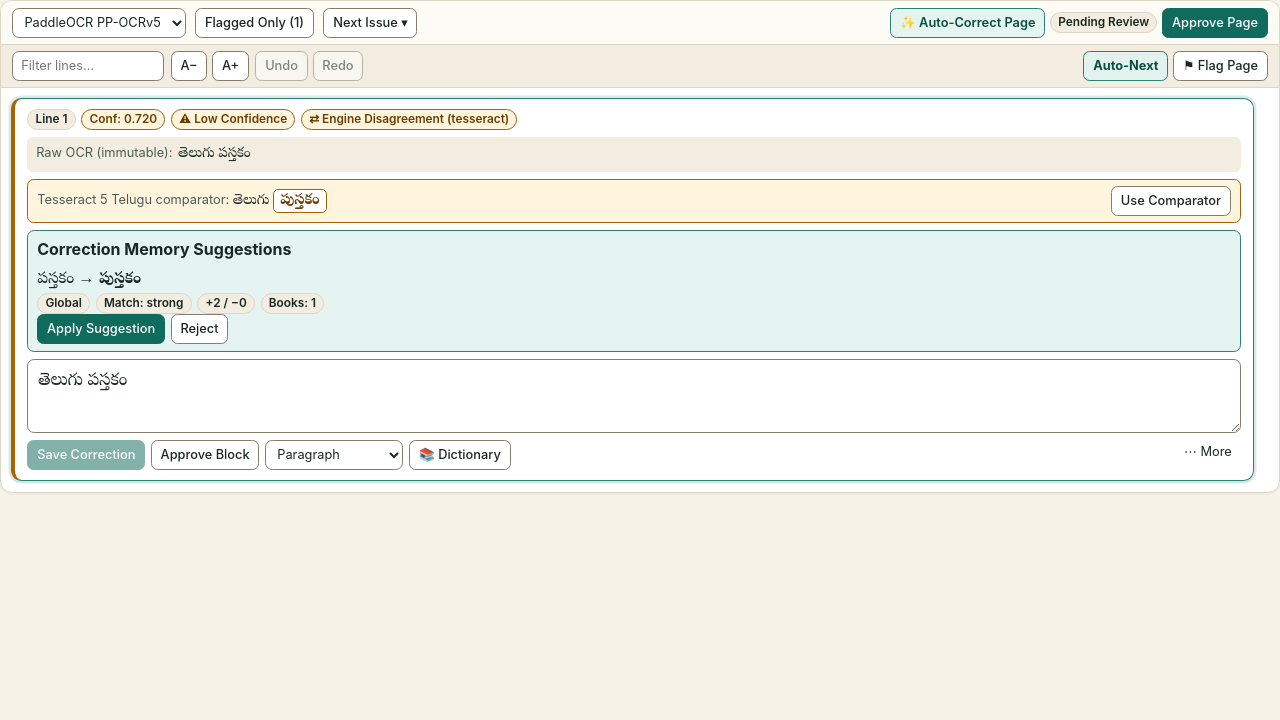
Test: ReviewEditorPanel › supports opt-in Auto-Correct Page preview, revert, and Save All & Approve Page
The image size is (1280, 720).
Later steps or results of the test are not shown.
Click the button "Auto-Next".
click(1126, 66)  # box 1083,51 -> 1168,81
Click the button "📚 Dictionary".
click(460, 455)  # box 409,440 -> 511,470
Click the button "✨ Auto-Correct Page".
click(968, 23)  # box 890,8 -> 1045,38
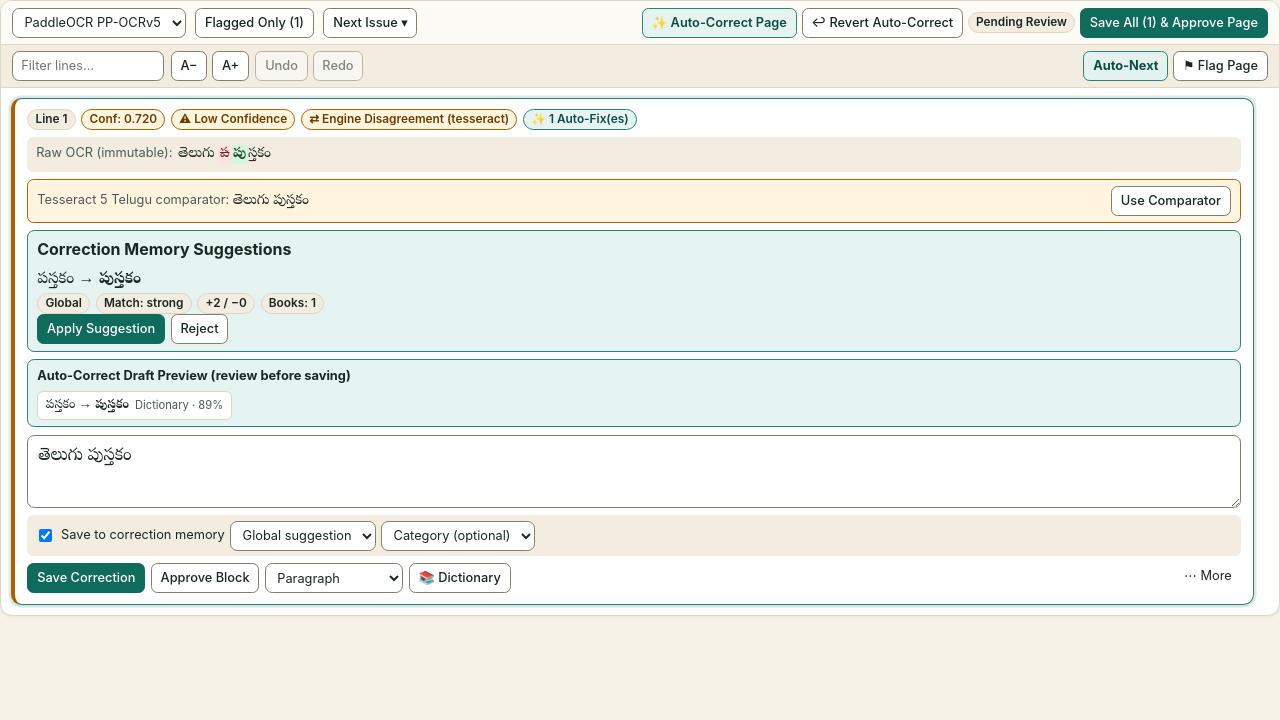
Check: the text box named "Edit Telugu text for line 1" holds "తెలుగు పుస్తకం", box 27,435 -> 1241,508
Check: the text "Auto-Correct Draft Preview (review before saving)" is shown, box 37,368 -> 351,383
Note: Test one-click Revert Auto-Correct restores original draft.
Click the button "↩ Revert Auto-Correct".
click(882, 23)  # box 802,8 -> 963,38
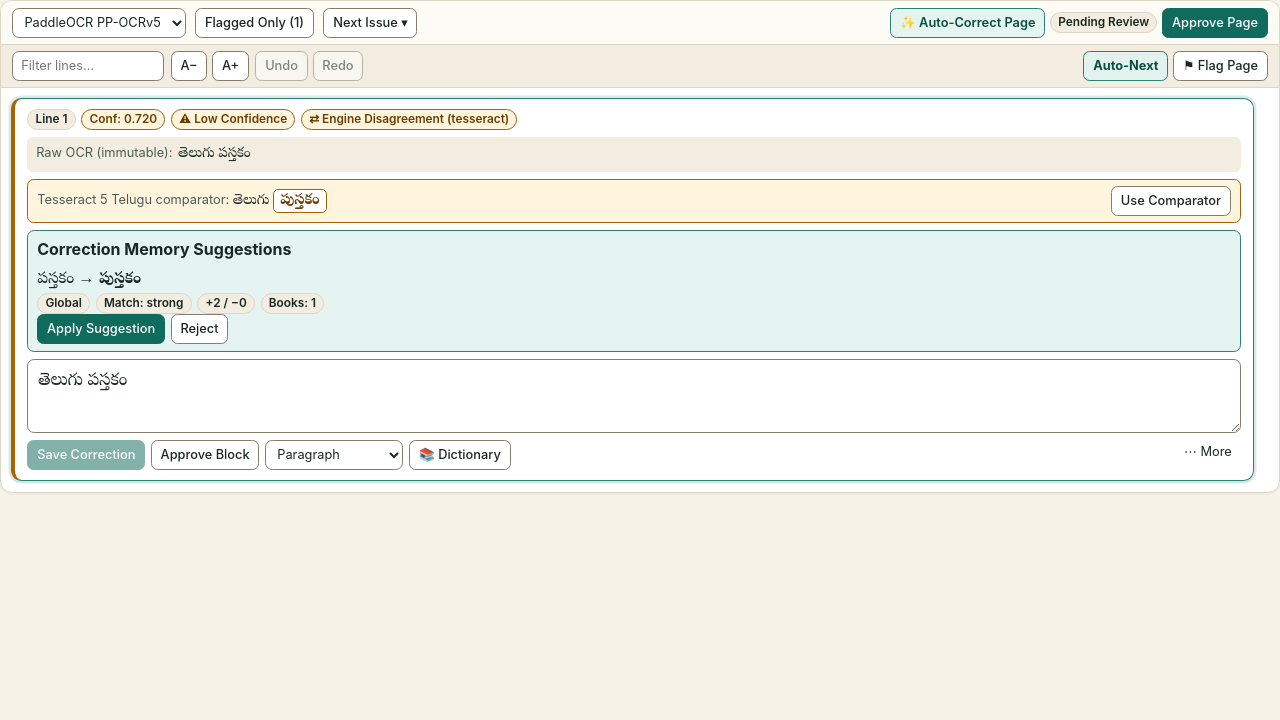
Check: the text box named "Edit Telugu text for line 1" holds "తెలుగు పస్తకం", box 27,359 -> 1241,433
Note: Re-run auto-correct and commit entire page in one click.
Click the button "✨ Auto-Correct Page".
click(968, 23)  # box 890,8 -> 1045,38
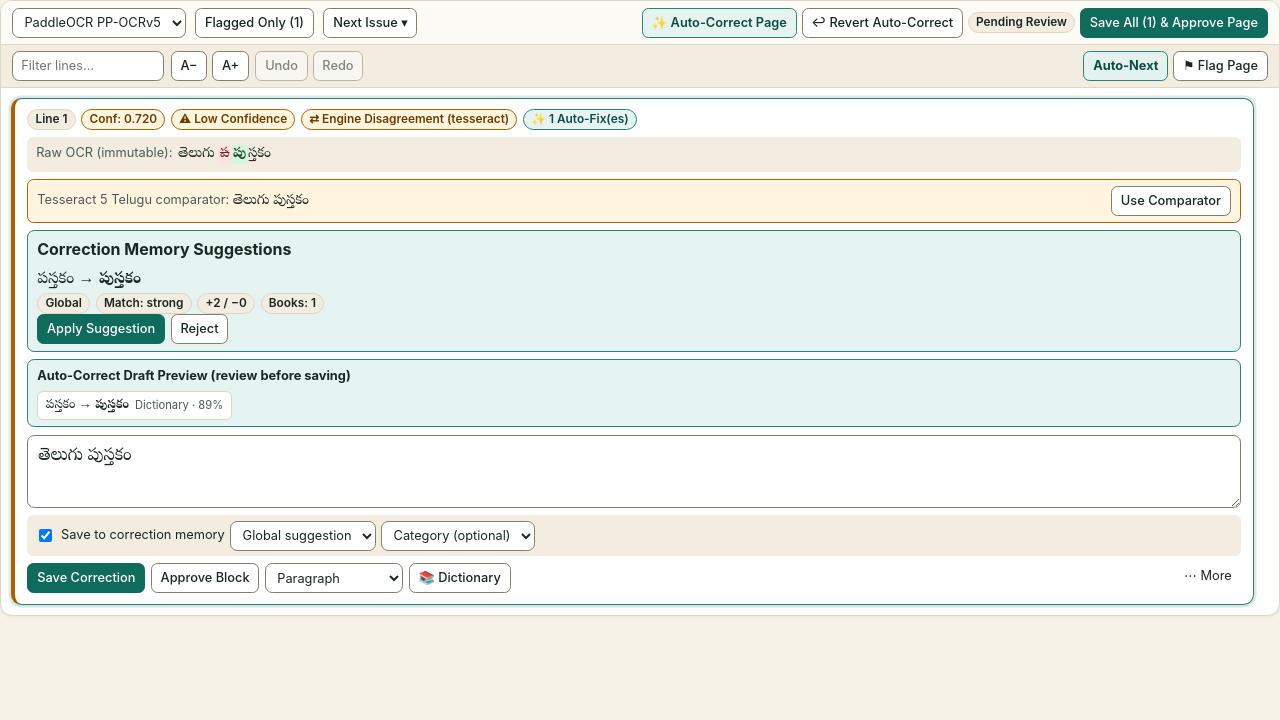
Check: the text box named "Edit Telugu text for line 1" holds "తెలుగు పుస్తకం", box 27,435 -> 1241,508
